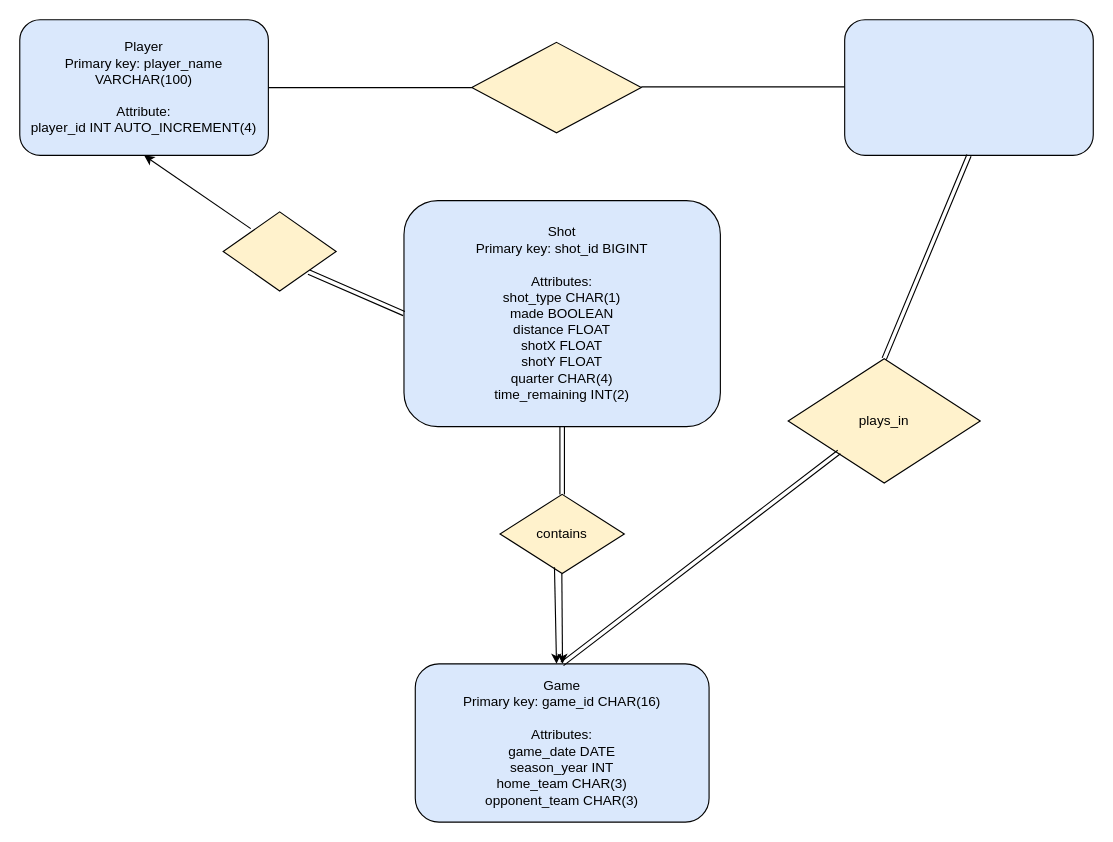
This 1113x842 diagram has some shape labels left out. The centre of each missing label's shape, as x and y in pixels:
"belongs_to (season_year)" belongs at (x=556, y=87).
"takes" belongs at (x=279, y=251).
"Team Primary key: team_name CHAR(3)" belongs at (x=968, y=87).
